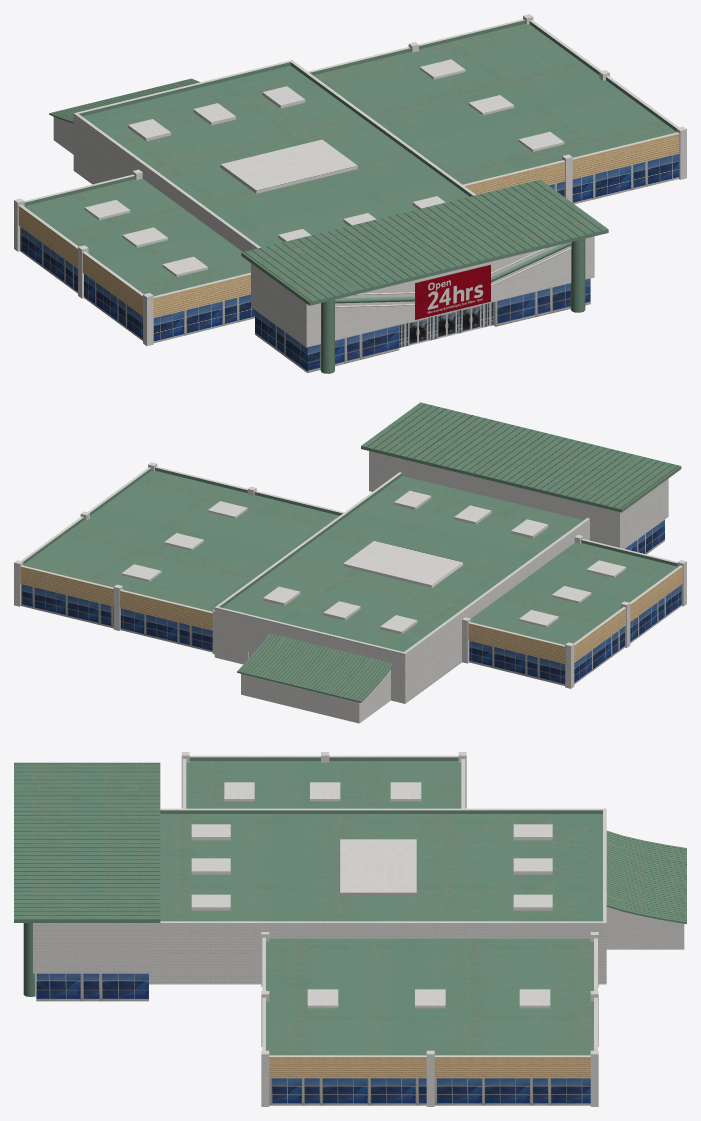
The model's file is uksupermarket6.FBX.
The picture shows the model from 3 angles, top to bottom: view 1: azimuth 30°, elevation 25°; view 2: azimuth 150°, elevation 25°; view 3: azimuth 270°, elevation 25°; orthographic projection. The views are drawn at different scales.
Visible parts, largest first — view 1: Box002; view 2: Box002; view 3: Box002.
Part boxes in pixels (x1,y1,x2,y2): Box002: (14,14,686,373); Box002: (14,402,686,723); Box002: (14,752,686,1106).
Size of the model in its own units: 184 by 173 by 24.58.
